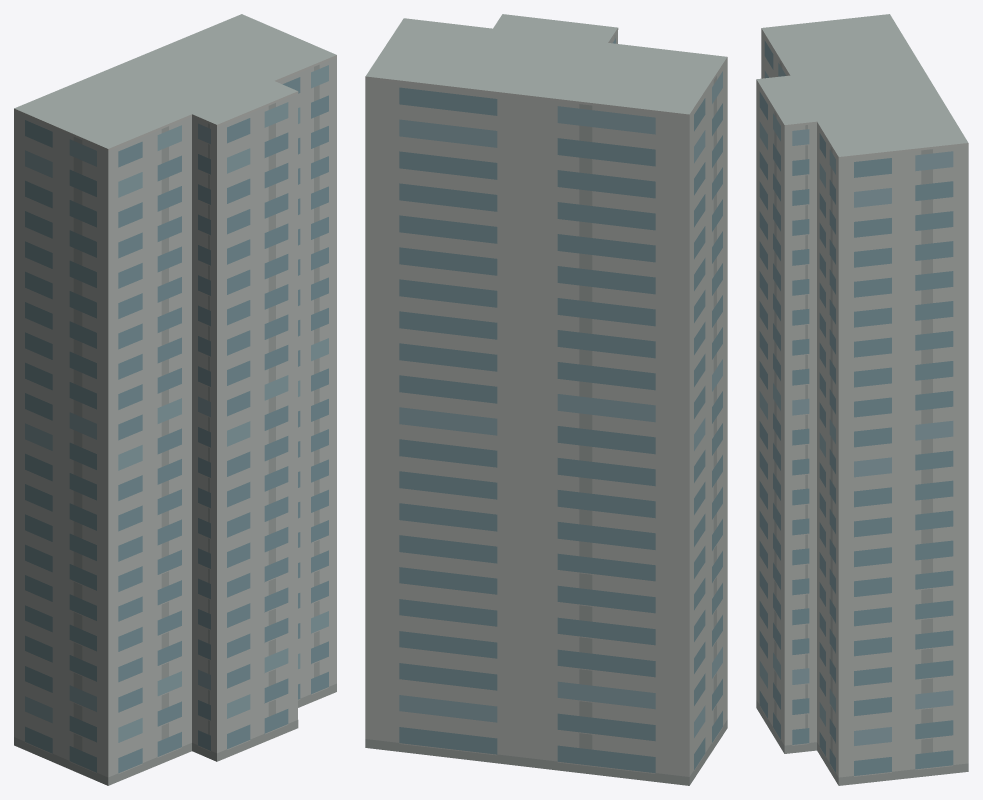
The model's file is residential-df6a417b-c26c-47d6-8289-eaf4f1574e60.glb.
3 renders of one model, left to right at view 1: azimuth 30°, elevation 25°; view 2: azimuth 150°, elevation 25°; view 3: azimuth 270°, elevation 25°, orthographic. The views are drawn at different scales.
Parts seen in each view (by area): view 1: residential-df6a417b-c26c-47d6-8289-eaf4f1574e60.tmp; view 2: residential-df6a417b-c26c-47d6-8289-eaf4f1574e60.tmp; view 3: residential-df6a417b-c26c-47d6-8289-eaf4f1574e60.tmp.
Part boxes in pixels (x1,y1,x2,y2): residential-df6a417b-c26c-47d6-8289-eaf4f1574e60.tmp: (14, 14, 336, 785); residential-df6a417b-c26c-47d6-8289-eaf4f1574e60.tmp: (365, 14, 727, 785); residential-df6a417b-c26c-47d6-8289-eaf4f1574e60.tmp: (756, 14, 968, 785).
Bounding box in the file's own units: 32.21 × 66 × 20.18.
